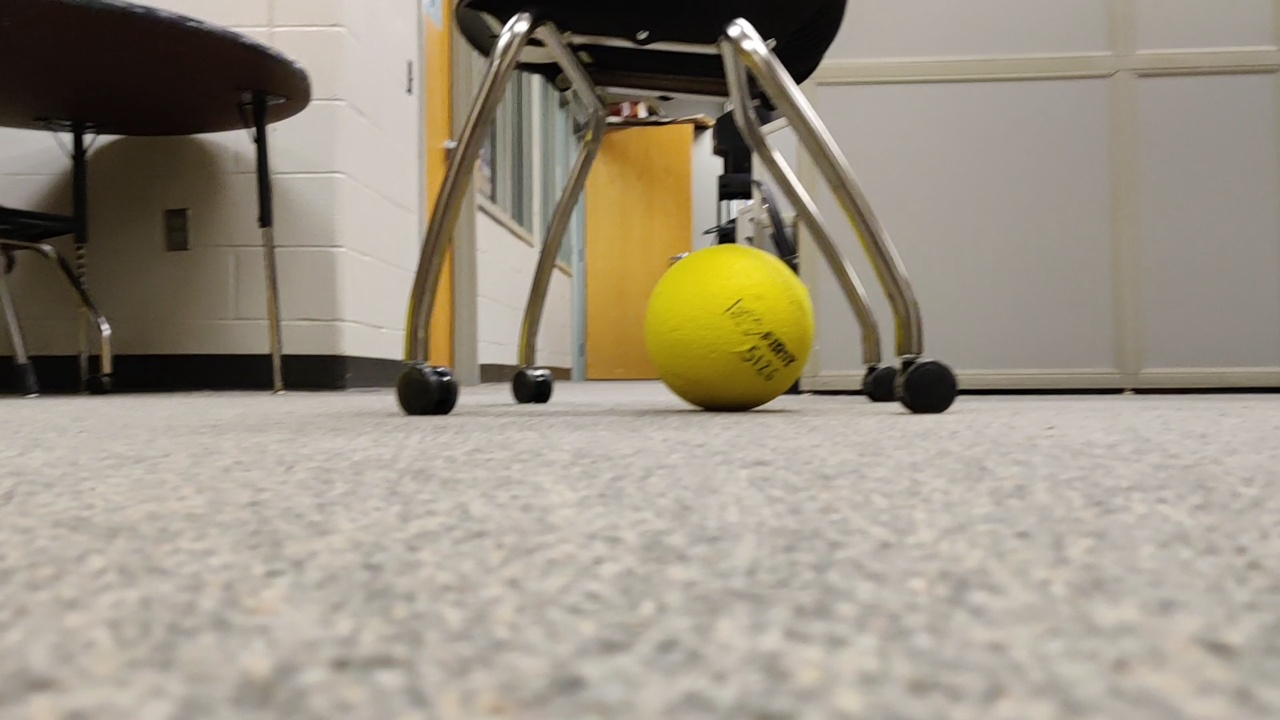Ball: (648, 239, 813, 418)
